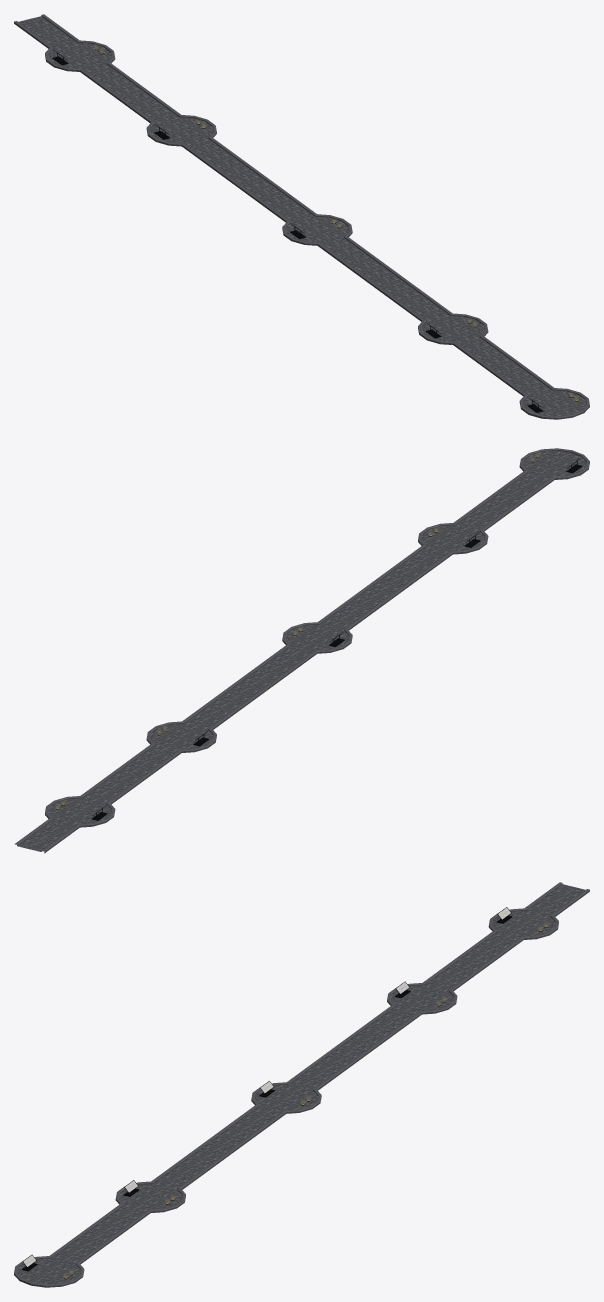
The model's file is pathWay.glb.
The picture shows the model from 3 angles, top to bottom: view 1: azimuth 30°, elevation 25°; view 2: azimuth 150°, elevation 25°; view 3: azimuth 330°, elevation 25°; orthographic projection.
Parts seen in each view (by area): view 1: PathWay; view 2: PathWay; view 3: PathWay.
Boxes of the visible parts, x1=… form: PathWay: x1=14, y1=14, x2=589, y2=419; PathWay: x1=14, y1=448, x2=589, y2=853; PathWay: x1=14, y1=882, x2=589, y2=1287.
Size of what is drawn, in the model's own units: 8.17 by 1.24 by 128.
5 materials, 5 textured.
